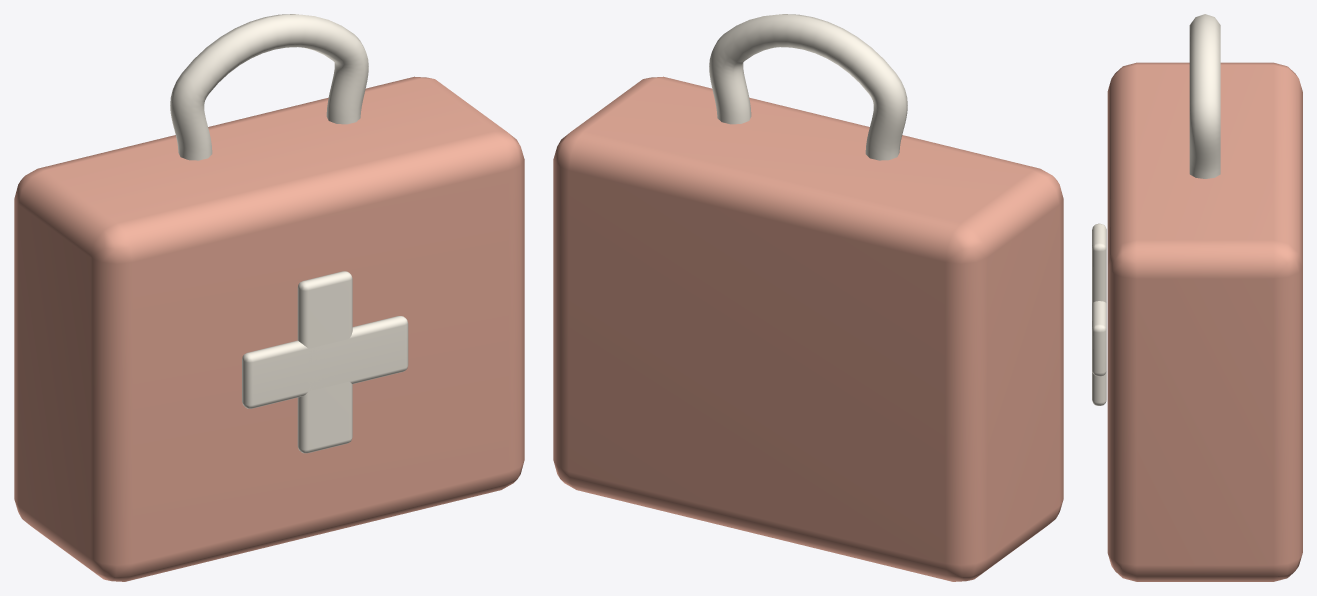
The model's file is FirstAid.fbx.
3 renders of one model, left to right at view 1: azimuth 30°, elevation 25°; view 2: azimuth 150°, elevation 25°; view 3: azimuth 270°, elevation 25°, orthographic. The views are drawn at different scales.
Visible parts, largest first — view 1: FirstAid, CaseHandle, MedicalBarH, MedicalBarV; view 2: FirstAid, CaseHandle; view 3: FirstAid, CaseHandle, MedicalBarV, MedicalBarH.
Boxes of the visible parts, left/top/right/bottom form: FirstAid: left=14, top=76, right=524, bottom=581; CaseHandle: left=170, top=14, right=368, bottom=160; MedicalBarH: left=242, top=316, right=408, bottom=408; MedicalBarV: left=297, top=271, right=352, bottom=453; FirstAid: left=553, top=76, right=1063, bottom=581; CaseHandle: left=709, top=14, right=907, bottom=160; FirstAid: left=1107, top=62, right=1302, bottom=581; CaseHandle: left=1189, top=14, right=1220, bottom=178; MedicalBarV: left=1092, top=223, right=1106, bottom=405; MedicalBarH: left=1092, top=301, right=1106, bottom=376.
Size of the model in its own units: 29 by 31.57 by 12.95.
